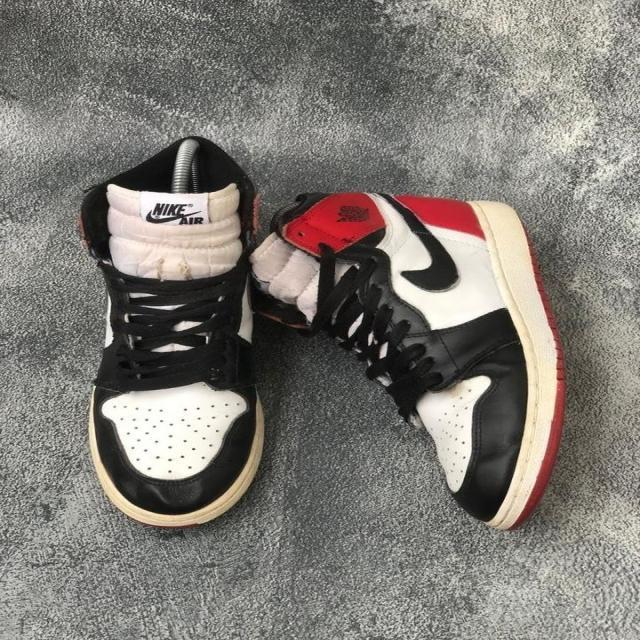nike fake jordan 1: (246, 188, 569, 532), (75, 134, 300, 529)
